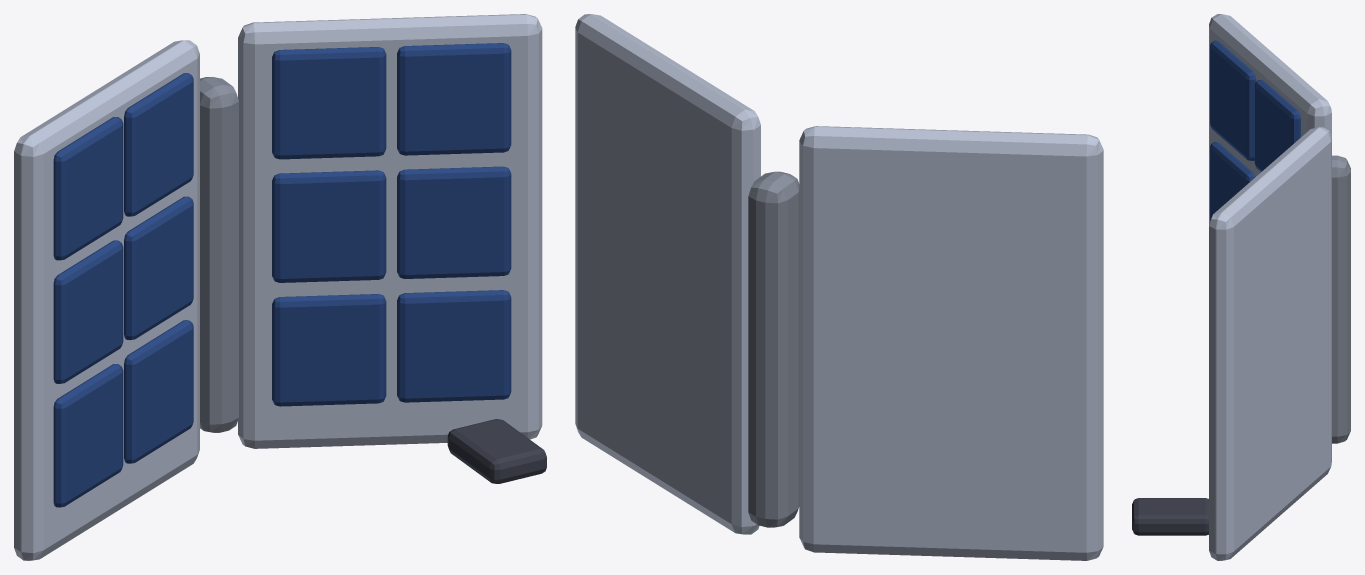
File: panel.glb
3 renders of one model, left to right at view 1: azimuth 30°, elevation 25°; view 2: azimuth 150°, elevation 25°; view 3: azimuth 270°, elevation 25°, orthographic. The views are drawn at different scales.
Visible parts, largest first — view 1: panel; view 2: panel; view 3: panel.
Part boxes in pixels (x1,y1,x2,y2): panel: [14, 14, 546, 560]; panel: [575, 14, 1103, 560]; panel: [1132, 14, 1350, 560].
Size of the model in its own units: 1.11 by 0.86 by 0.49.
